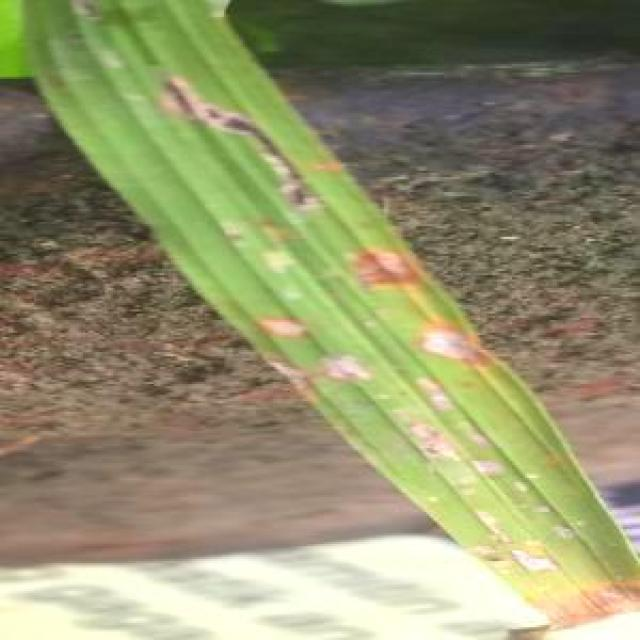Leaf_Blast: (152, 58, 324, 204), (405, 305, 497, 373), (288, 335, 380, 397), (352, 228, 425, 299), (260, 290, 322, 356)
